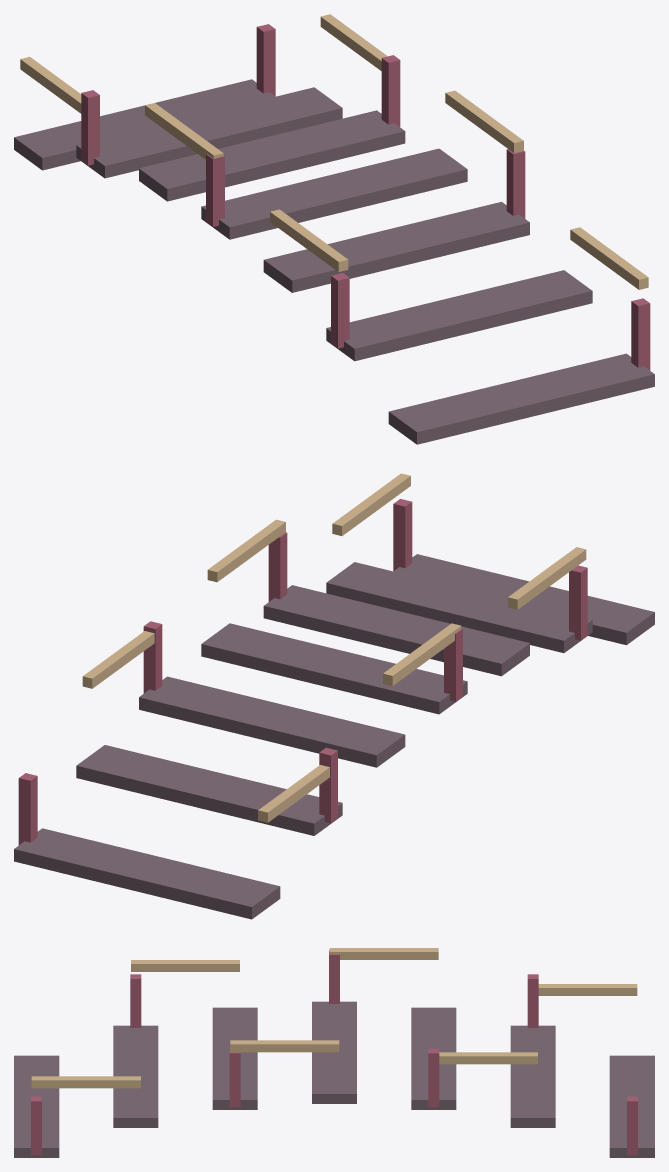
File: moonfall_arch_bridge_lod1.glb
The picture shows the model from 3 angles, top to bottom: view 1: azimuth 30°, elevation 25°; view 2: azimuth 150°, elevation 25°; view 3: azimuth 270°, elevation 25°; orthographic projection. The views are drawn at different scales.
Parts seen in each view (by area): view 1: moonfall_arch_bridge_006, moonfall_arch_bridge_005, moonfall_arch_bridge_003, moonfall_arch_bridge_004, moonfall_arch_bridge_002, moonfall_arch_bridge_001, moonfall_arch_bridge_000, moonfall_arch_bridge_019, moonfall_arch_bridge_012, moonfall_arch_bridge_018, moonfall_arch_bridge_011, moonfall_arch_bridge_014 (+8 smaller); view 2: moonfall_arch_bridge_000, moonfall_arch_bridge_002, moonfall_arch_bridge_003, moonfall_arch_bridge_005, moonfall_arch_bridge_001, moonfall_arch_bridge_004, moonfall_arch_bridge_006, moonfall_arch_bridge_018, moonfall_arch_bridge_012, moonfall_arch_bridge_019, moonfall_arch_bridge_011, moonfall_arch_bridge_017 (+8 smaller); view 3: moonfall_arch_bridge_005, moonfall_arch_bridge_001, moonfall_arch_bridge_003, moonfall_arch_bridge_000, moonfall_arch_bridge_002, moonfall_arch_bridge_004, moonfall_arch_bridge_006, moonfall_arch_bridge_018, moonfall_arch_bridge_019, moonfall_arch_bridge_012, moonfall_arch_bridge_017, moonfall_arch_bridge_011 (+8 smaller).
Part boxes in pixels (x1,y1,x2,y2): moonfall_arch_bridge_006: (388, 353, 654, 444); moonfall_arch_bridge_005: (326, 270, 592, 361); moonfall_arch_bridge_003: (201, 148, 467, 239); moonfall_arch_bridge_004: (263, 201, 529, 292); moonfall_arch_bridge_002: (139, 110, 405, 201); moonfall_arch_bridge_001: (76, 87, 342, 178); moonfall_arch_bridge_000: (14, 79, 274, 170); moonfall_arch_bridge_019: (570, 227, 648, 289); moonfall_arch_bridge_012: (270, 209, 348, 271); moonfall_arch_bridge_018: (445, 90, 523, 153); moonfall_arch_bridge_011: (145, 103, 223, 159); moonfall_arch_bridge_014: (381, 55, 400, 126); moonfall_arch_bridge_000: (14, 828, 280, 919); moonfall_arch_bridge_002: (139, 676, 405, 767); moonfall_arch_bridge_003: (201, 623, 467, 714); moonfall_arch_bridge_005: (326, 562, 592, 652); moonfall_arch_bridge_001: (76, 745, 342, 835); moonfall_arch_bridge_004: (263, 585, 529, 676); moonfall_arch_bridge_006: (393, 554, 654, 645); moonfall_arch_bridge_018: (207, 519, 285, 582); moonfall_arch_bridge_012: (508, 547, 586, 609); moonfall_arch_bridge_019: (332, 473, 410, 535); moonfall_arch_bridge_011: (383, 623, 461, 685); moonfall_arch_bridge_017: (82, 631, 154, 688); moonfall_arch_bridge_005: (113, 1025, 158, 1127); moonfall_arch_bridge_001: (510, 1025, 555, 1127); moonfall_arch_bridge_003: (312, 1001, 356, 1103); moonfall_arch_bridge_000: (609, 1055, 654, 1157); moonfall_arch_bridge_002: (411, 1007, 456, 1109); moonfall_arch_bridge_004: (212, 1007, 257, 1109); moonfall_arch_bridge_006: (14, 1055, 59, 1157); moonfall_arch_bridge_018: (230, 1040, 339, 1052); moonfall_arch_bridge_019: (31, 1076, 140, 1088); moonfall_arch_bridge_012: (131, 960, 239, 971); moonfall_arch_bridge_017: (439, 1052, 537, 1064); moonfall_arch_bridge_011: (329, 948, 438, 959).
Bounding box in the file's own units: 4.62 × 2.57 × 12.91.
